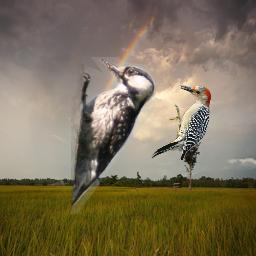Woodpecker: (71, 57, 155, 214), (149, 82, 219, 160)
